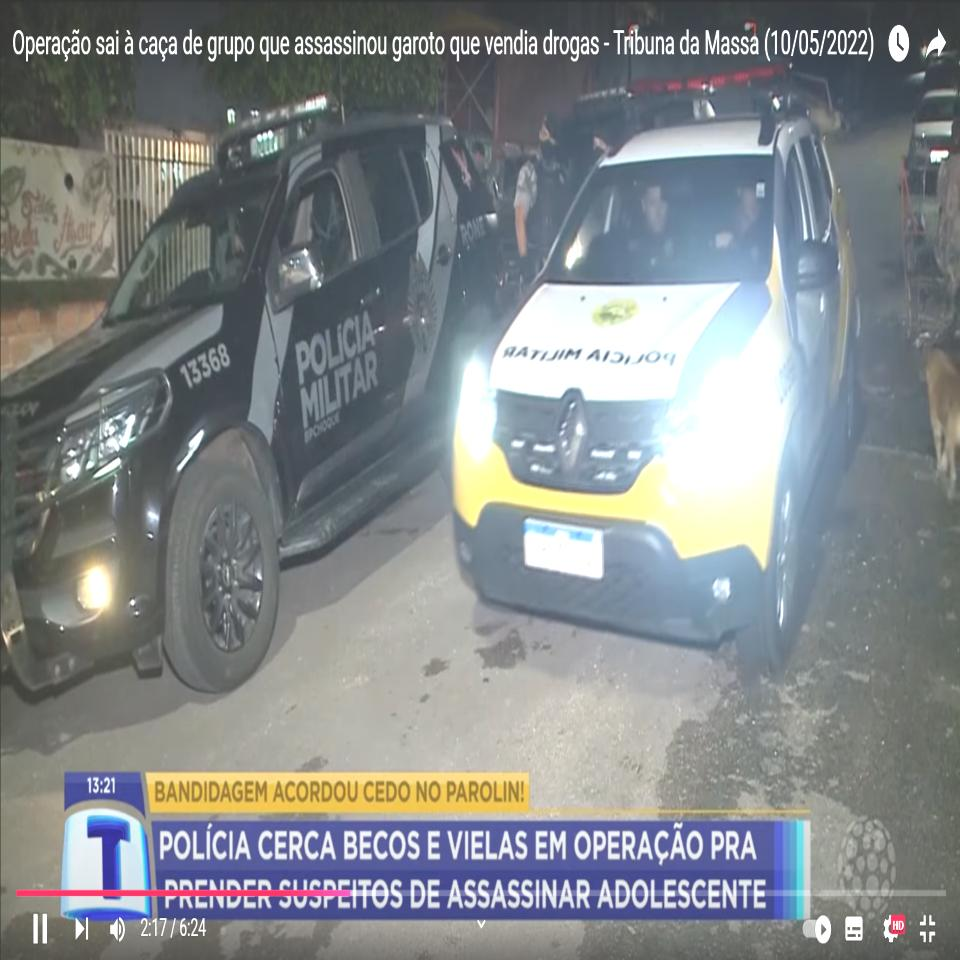viatura: (447, 66, 872, 670)
